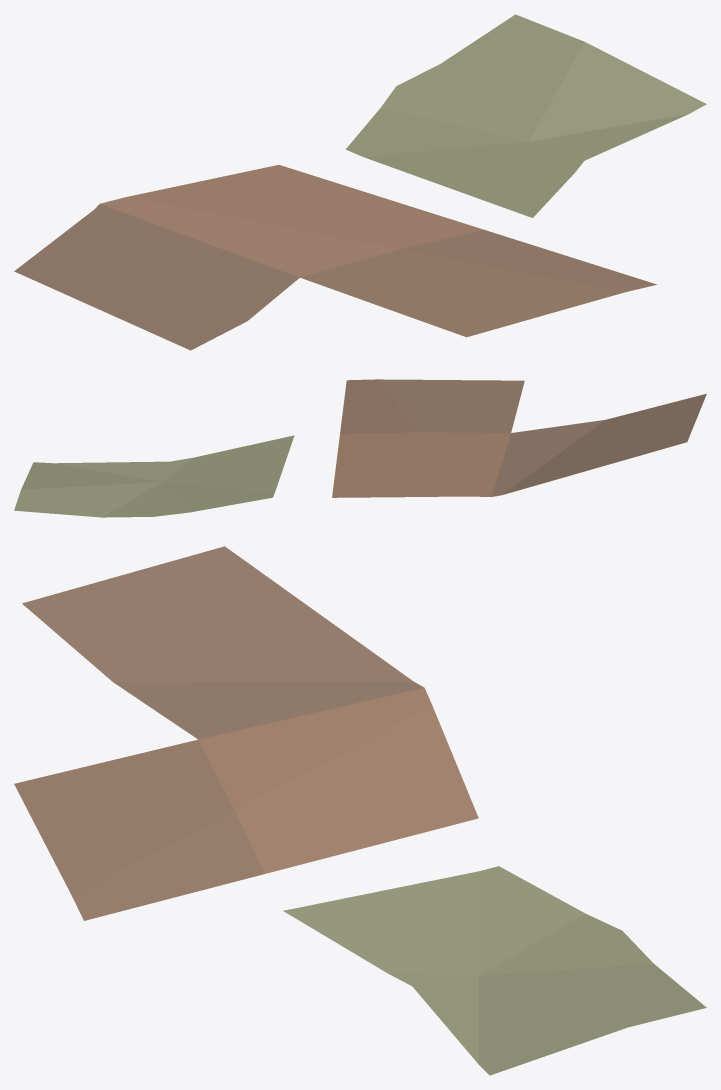
Rendered from farm_-37_-49_soil.glb.
3 renders of one model, top to bottom at view 1: azimuth 30°, elevation 25°; view 2: azimuth 150°, elevation 25°; view 3: azimuth 270°, elevation 25°, orthographic. The views are drawn at different scales.
Parts seen in each view (by area): view 1: geometry_0; view 2: geometry_0; view 3: geometry_0.
Part boxes in pixels (x1,y1,x2,y2): geometry_0: [14, 14, 706, 350]; geometry_0: [14, 379, 706, 517]; geometry_0: [14, 546, 706, 1075].
Bounding box in the file's own units: 142 × 21.77 × 104.
